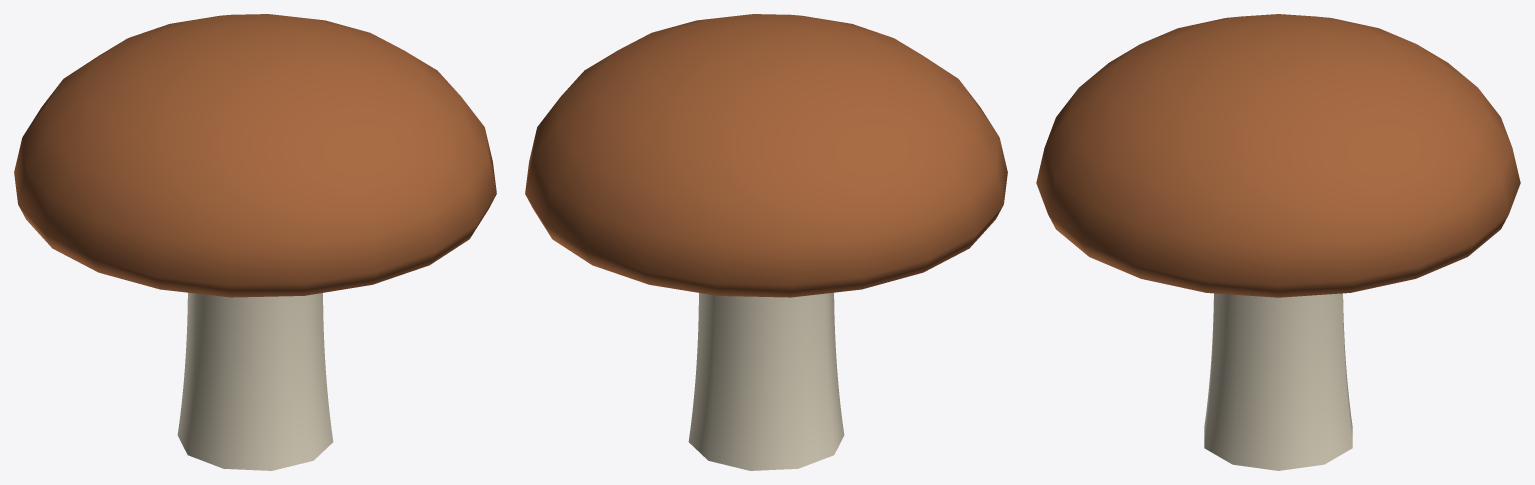
File: MinersCap.fbx
3 views of the same model, side by side, from view 1: azimuth 30°, elevation 25°; view 2: azimuth 150°, elevation 25°; view 3: azimuth 270°, elevation 25° (orthographic).
Visible parts, largest first — view 1: Handle, Stem; view 2: Handle, Stem; view 3: Handle, Stem.
Boxes of the visible parts, x1,y1,x2,y2 form: Handle: (14,14,496,297); Stem: (177,292,333,470); Handle: (525,14,1007,297); Stem: (688,292,844,470); Handle: (1036,14,1520,297); Stem: (1204,293,1352,470).
Bounding box in the file's own units: 1.24 × 1.1 × 1.24.
